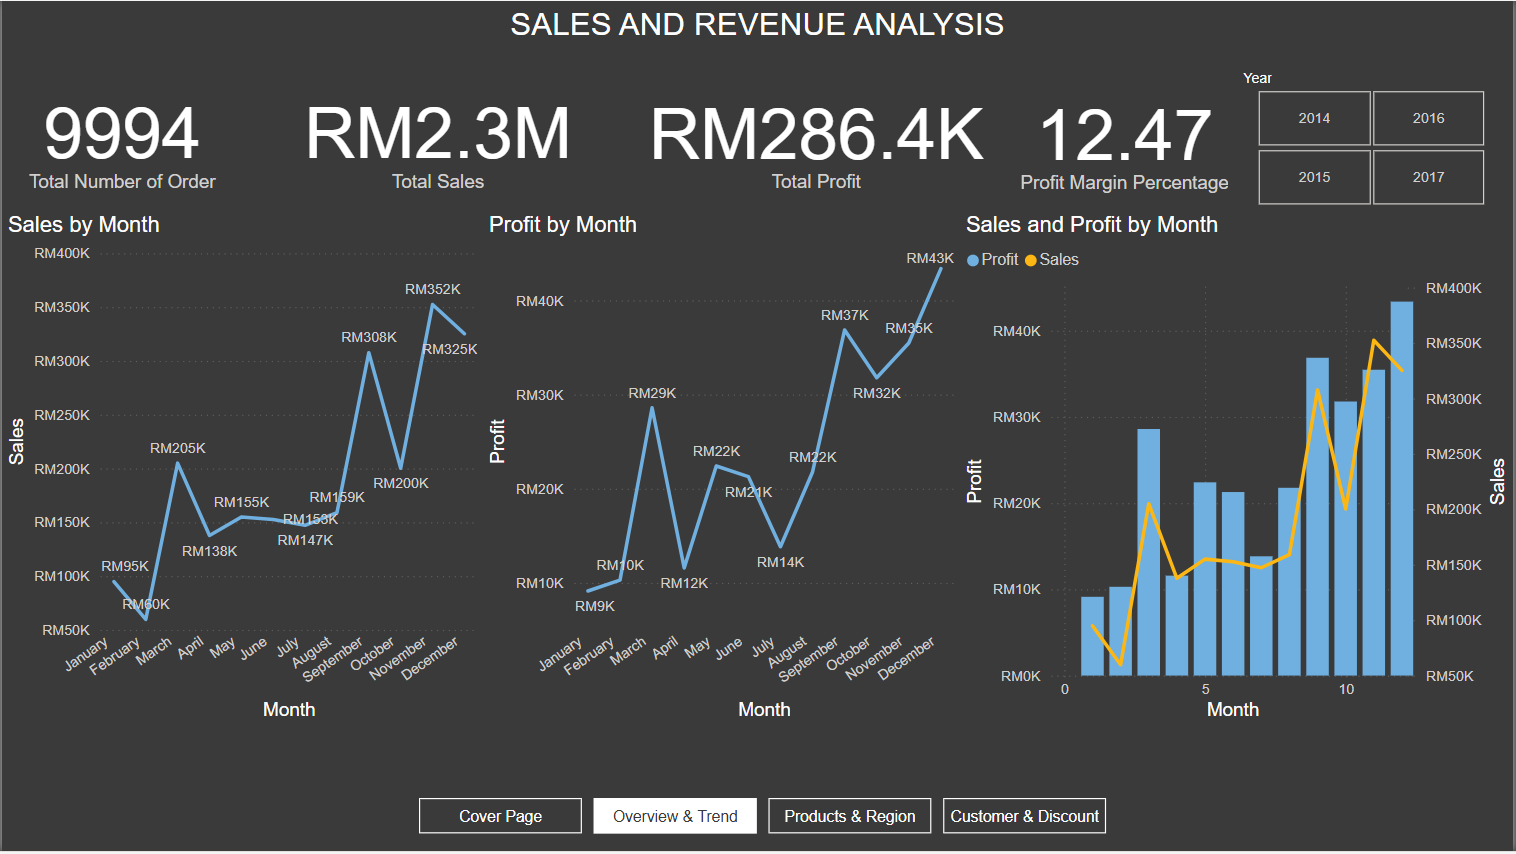

This screenshot's page, from the dashboard's own definition file:
{"tool":"powerbi","page":{"name":"Overview & Trend","canvas":[1280,720],"ordinal":1},"visuals":[{"type":"textbox","box":[0,0,1280,48.8],"z":0},{"type":"card","fields":{"Values":["Sum(Sample - Superstore.Sales)"]},"box":[203.3,53.4,332.2,125.4],"z":1000},{"type":"card","fields":{"Values":["Sum(Sample - Superstore.Profit)"]},"box":[535.1,53.1,308.7,125.6],"z":2000},{"type":"card","fields":{"Values":["CountNonNull(Sample - Superstore.Order ID)"]},"box":[0,53.8,203.8,125],"z":3000},{"type":"card","fields":{"Values":["Sample - Superstore.Profit Margin"]},"box":[856.2,54,189.3,125.6],"z":4000},{"type":"lineChart","title":"Sales by Month","fields":{"Category":["Sample - Superstore.Order Date.Variation.Date Hierarchy.Year","Sample - Superstore.Order Date.Variation.Date Hierarchy.Month"],"Y":["Sum(Sample - Superstore.Sales)"]},"box":[0,178.8,407.5,435],"z":5000},{"type":"lineChart","title":"Profit by Month","fields":{"Category":["Sample - Superstore.Order Date.Variation.Date Hierarchy.Year","Sample - Superstore.Order Date.Variation.Date Hierarchy.Month"],"Y":["Sum(Sample - Superstore.Profit)"]},"box":[407.5,178.8,403.8,435],"z":6000},{"type":"slicer","fields":{"Values":["Sample - Superstore.Order Date.Variation.Date Hierarchy.Year"]},"box":[1038.4,53.1,241.5,125.6],"z":7000},{"type":"lineClusteredColumnComboChart","title":"Sales and Profit by Month","fields":{"Y":["Sum(Sample - Superstore.Profit)"],"Y2":["Sum(Sample - Superstore.Sales)"],"Category":["Sample - Superstore.Order Date Month"]},"box":[811.2,178.8,468.8,435],"z":8000},{"type":"pageNavigator","box":[353.2,675.4,585.6,30.9],"z":9000}]}

Visuals, with their boxes in screenshot pixels (x1, y1, x2, y2), scaled from the page's 1280x720 canvas onto the 1516x854 screenshot:
textbox: {"x1": 0, "y1": 0, "x2": 1515, "y2": 58}
card - Sum(Sample - Superstore.Sales): {"x1": 241, "y1": 63, "x2": 634, "y2": 212}
card - Sum(Sample - Superstore.Profit): {"x1": 634, "y1": 63, "x2": 999, "y2": 212}
card - CountNonNull(Sample - Superstore.Order ID): {"x1": 0, "y1": 64, "x2": 241, "y2": 212}
card - Sample - Superstore.Profit Margin: {"x1": 1014, "y1": 64, "x2": 1238, "y2": 213}
"Sales by Month" lineChart: {"x1": 0, "y1": 212, "x2": 483, "y2": 728}
"Profit by Month" lineChart: {"x1": 483, "y1": 212, "x2": 961, "y2": 728}
slicer - Sample - Superstore.Order Date.Variation.Date Hierarchy.Year: {"x1": 1230, "y1": 63, "x2": 1515, "y2": 212}
"Sales and Profit by Month" lineClusteredColumnComboChart: {"x1": 961, "y1": 212, "x2": 1515, "y2": 728}
pageNavigator: {"x1": 418, "y1": 801, "x2": 1112, "y2": 838}
